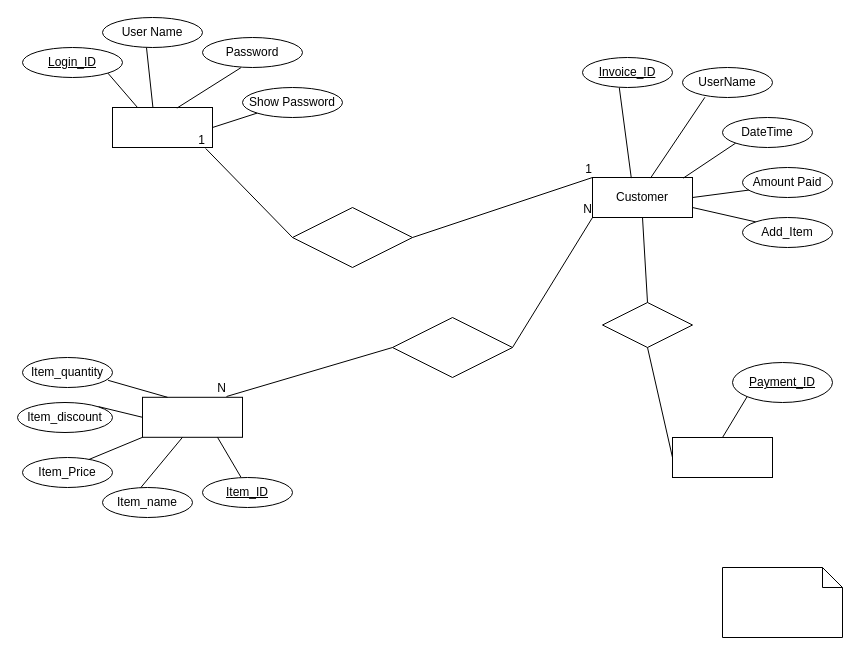
The diagram is 860 pixels wide and 655 high, and some of its shapes have lost their labels. The centre of each missing label's shape, as x and y in pixels:
Arth Patel DB Project ERD V1: the point at 782,602
Does: the point at 647,325
Has: the point at 352,237
Have: the point at 452,347
Item: the point at 192,416
Login: the point at 162,127
Payment: the point at 722,457
